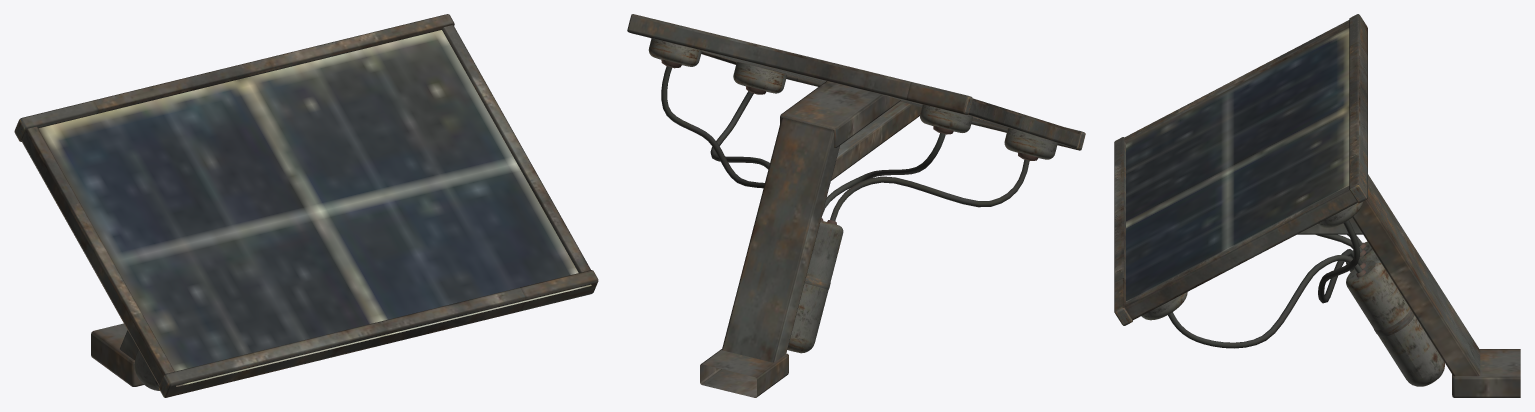
Rendered from prop_small_015.glb.
The picture shows the model from 3 angles, left to right: view 1: azimuth 30°, elevation 25°; view 2: azimuth 150°, elevation 25°; view 3: azimuth 270°, elevation 25°; orthographic projection. The views are drawn at different scales.
Visible parts, largest first — view 1: Building_12_039; view 2: Building_12_039; view 3: Building_12_039.
Boxes of the visible parts, x1,y1,x2,y2 form: Building_12_039: (14,14,598,397); Building_12_039: (627,14,1085,397); Building_12_039: (1114,14,1520,397).
Bounding box in the file's own units: 0.7983 × 0.627 × 0.8.
Materials: 1 (1 with a texture image).
